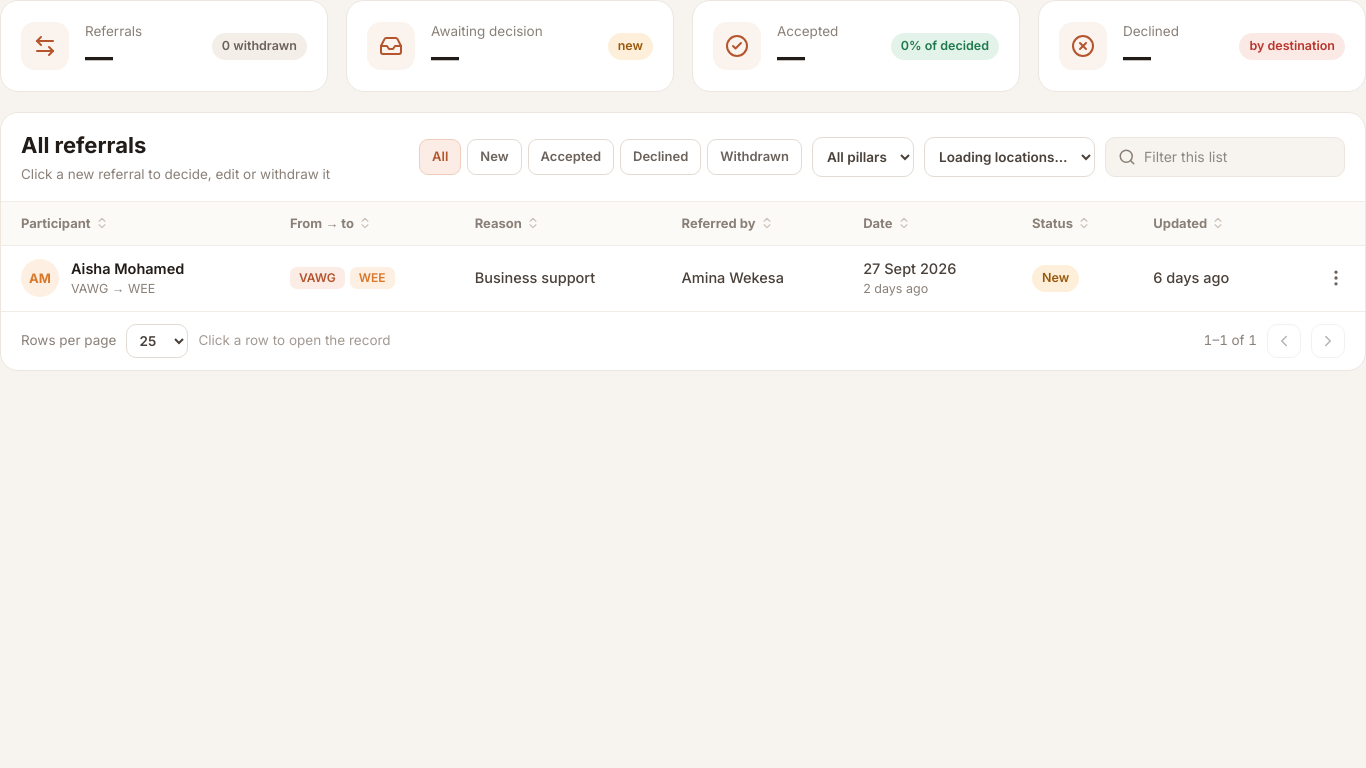
Test: announces a decision failure inside the active dialog
Step 1. Click the row that starts with "Aisha Mohamed" → [683, 278], box [1, 246, 1365, 310]
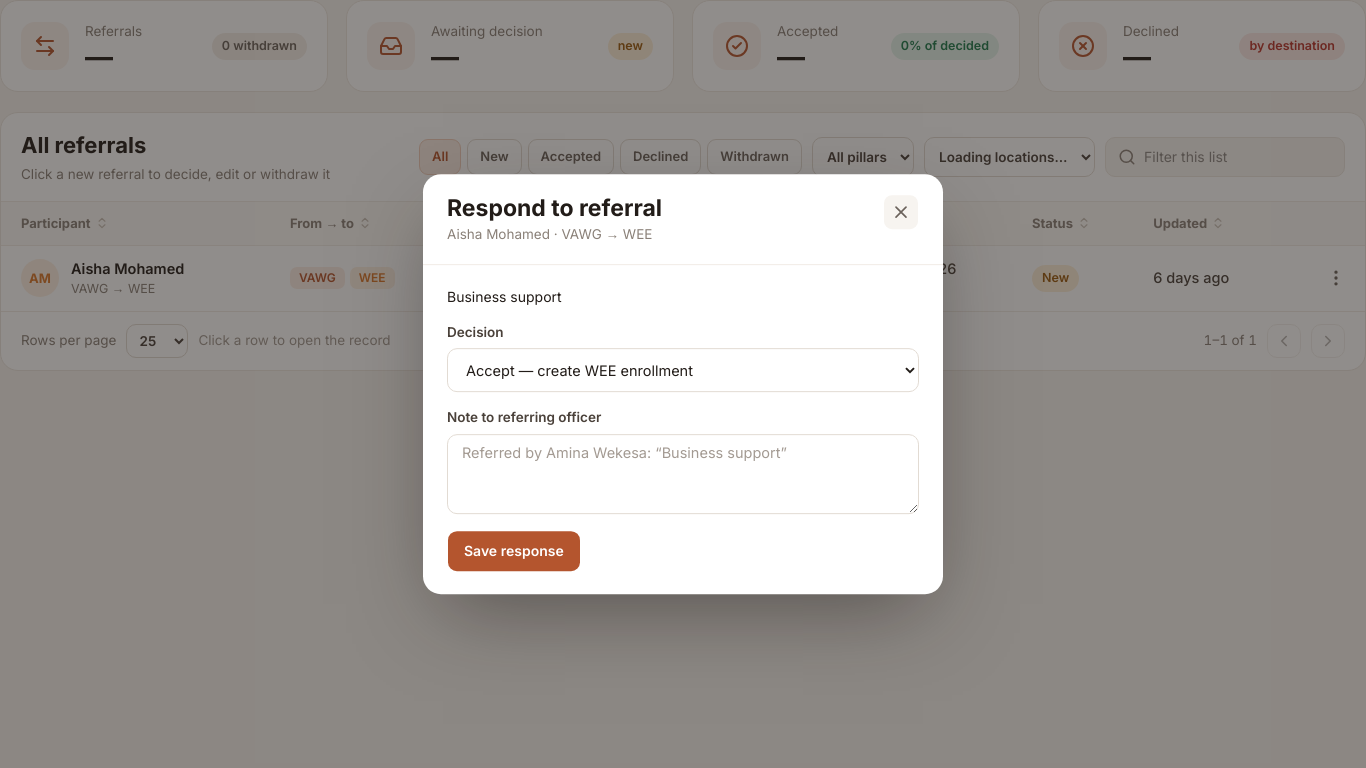
Step 2. Click the button "Save response" → [514, 551], box [447, 530, 581, 572]
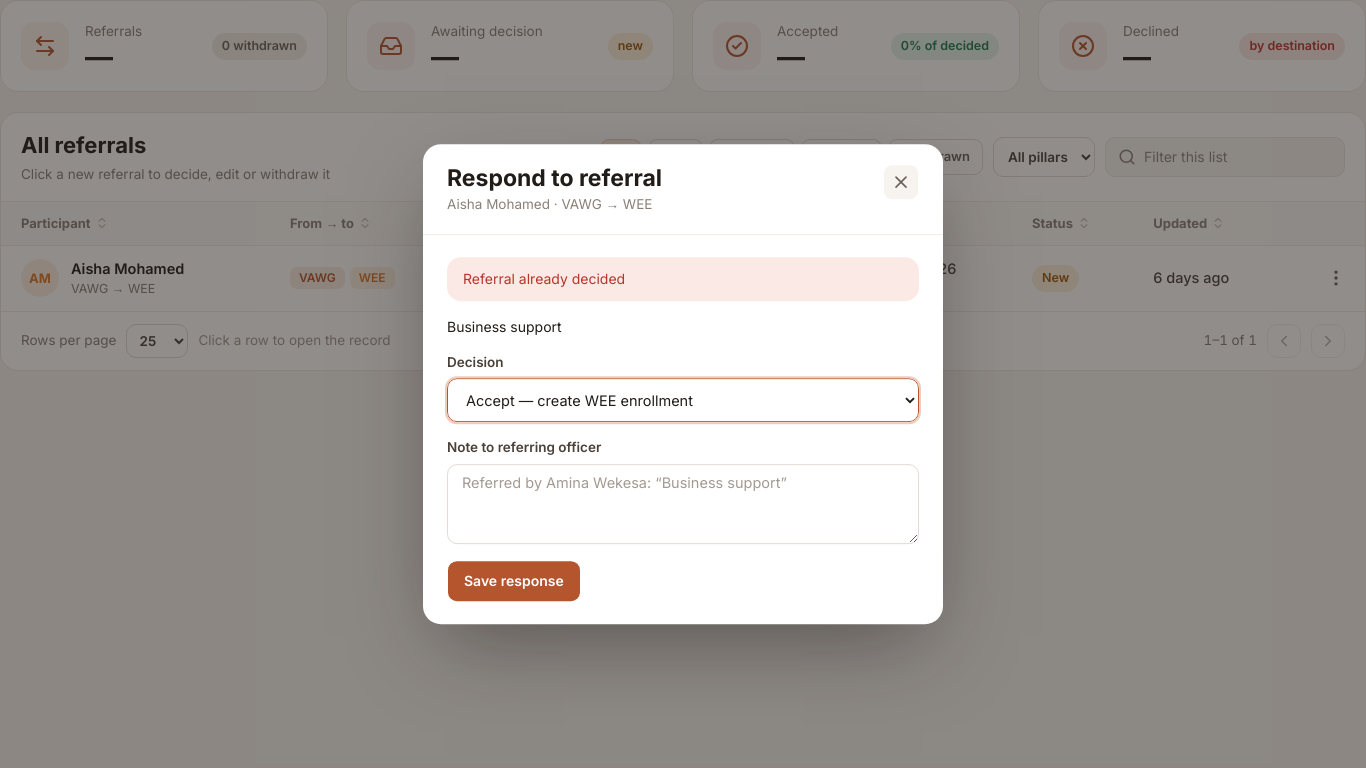
Now the message reads "Referral already decided", box [463, 270, 625, 287]
